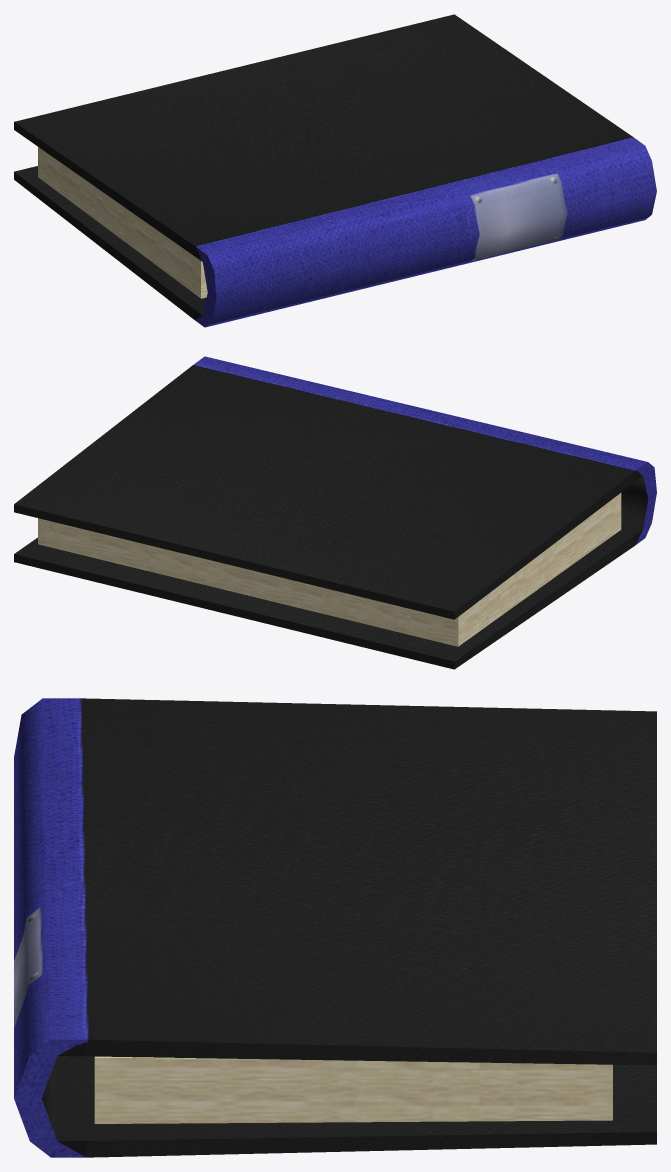
File: Binder.fbx
3 renders of one model, top to bottom at view 1: azimuth 30°, elevation 25°; view 2: azimuth 150°, elevation 25°; view 3: azimuth 270°, elevation 25°, orthographic. The views are drawn at different scales.
Visible parts, largest first — view 1: pCube3, pCube4; view 2: pCube3, pCube4; view 3: pCube3, pCube4.
Part boxes in pixels (<box>): pCube3: <box>14,14,656,327</box>; pCube4: <box>38,147,207,298</box>; pCube3: <box>14,356,656,669</box>; pCube4: <box>38,493,621,646</box>; pCube3: <box>14,698,656,1157</box>; pCube4: <box>94,1056,612,1123</box>.
Size of the model in its own units: 3.5 by 0.5637 by 2.78.
1 material, 1 textured.
